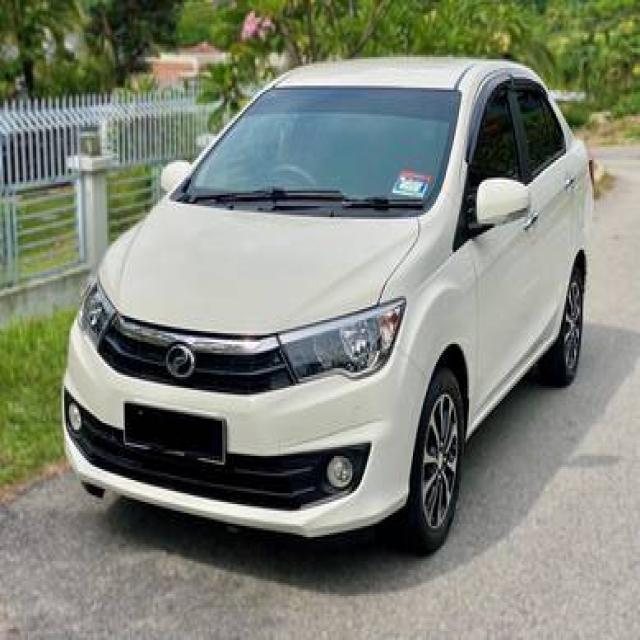PeroduaBezza: (59, 53, 595, 555)
